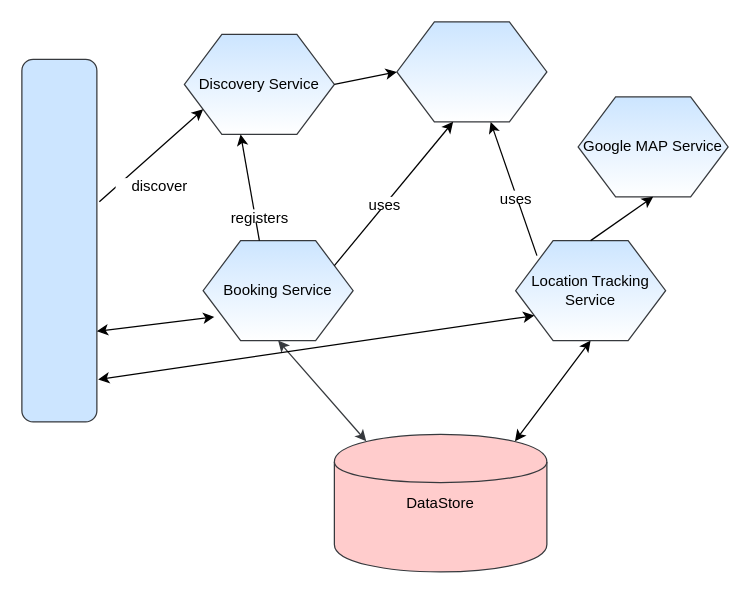
The diagram is 750 pixels wide and 594 high, and some of its shapes have lost their labels. The centre of each missing label's shape, as x and y in pixels:
"API GATEWAY(Zuul Proxy)" goes at (x=59, y=240).
"Config Service" goes at (x=471, y=71).
